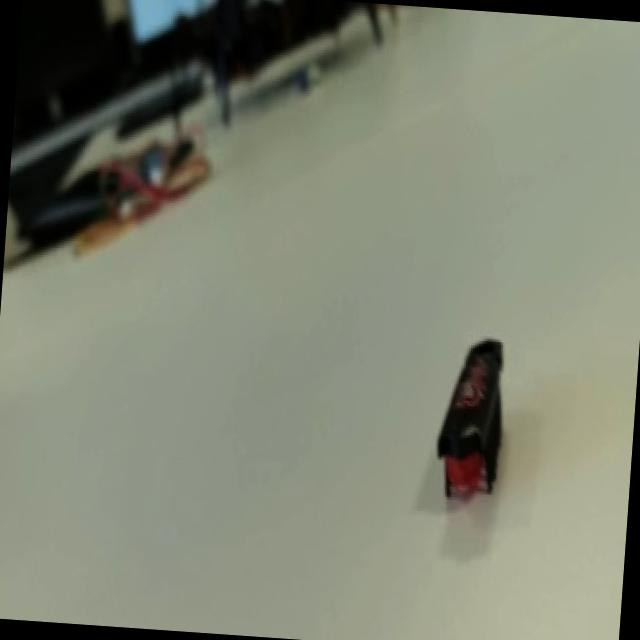2_NanoBug_Negro: (406, 318, 532, 512)
